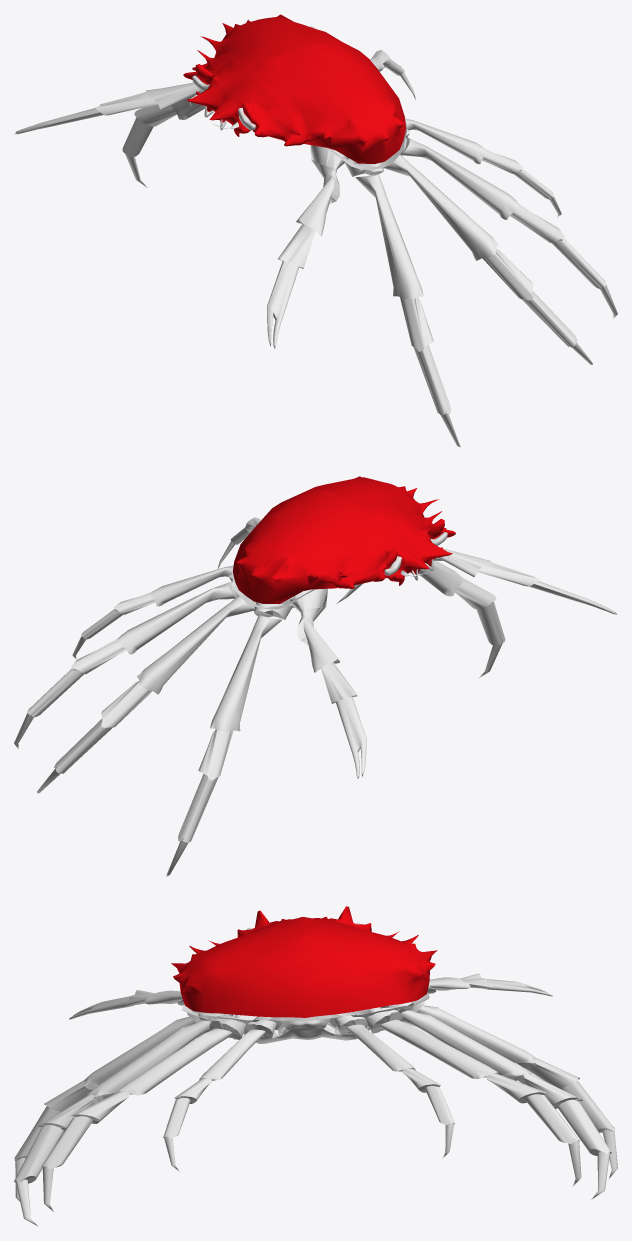
The model's file is egg.glb.
3 renders of one model, top to bottom at view 1: azimuth 30°, elevation 25°; view 2: azimuth 150°, elevation 25°; view 3: azimuth 270°, elevation 25°, orthographic. The views are drawn at different scales.
Parts seen in each view (by area): view 1: uploads_files_2361979_CRAB(2); view 2: uploads_files_2361979_CRAB(2); view 3: uploads_files_2361979_CRAB(2).
Part boxes in pixels (x1,y1,x2,y2): uploads_files_2361979_CRAB(2): (14,14,617,447); uploads_files_2361979_CRAB(2): (14,476,617,877); uploads_files_2361979_CRAB(2): (14,906,617,1226).
Size of the model in its own units: 5.5 by 4.5 by 8.95.
